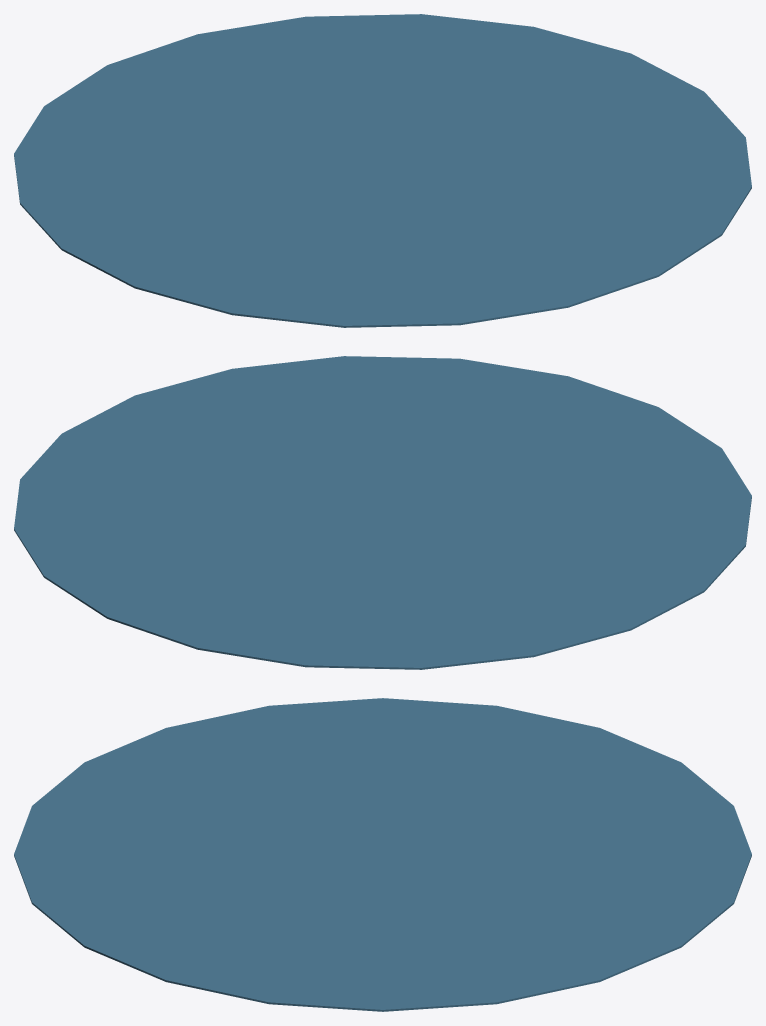
File: Pondplane.fbx
3 renders of one model, top to bottom at view 1: azimuth 30°, elevation 25°; view 2: azimuth 150°, elevation 25°; view 3: azimuth 270°, elevation 25°, orthographic.
Visible parts, largest first — view 1: PondWater; view 2: PondWater; view 3: PondWater.
Boxes of the visible parts, x1=… form: PondWater: x1=14, y1=14, x2=751, y2=327; PondWater: x1=14, y1=356, x2=751, y2=669; PondWater: x1=14, y1=698, x2=751, y2=1011.
Bounding box in the file's own units: 3.6 × 0.01 × 3.6.
